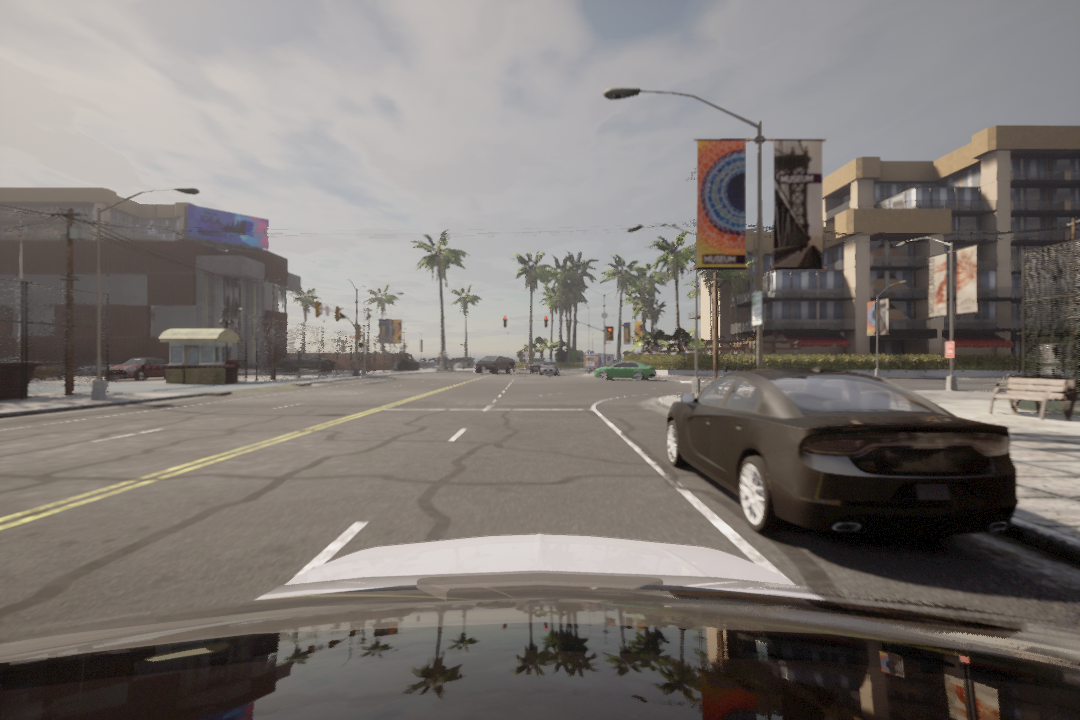TrafficLight: (544, 316, 549, 329), (503, 317, 508, 328)
